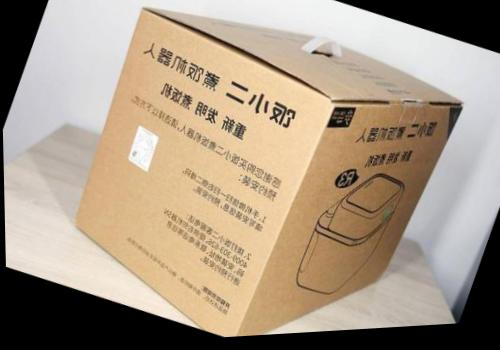cardboard: (28, 9, 461, 335)
